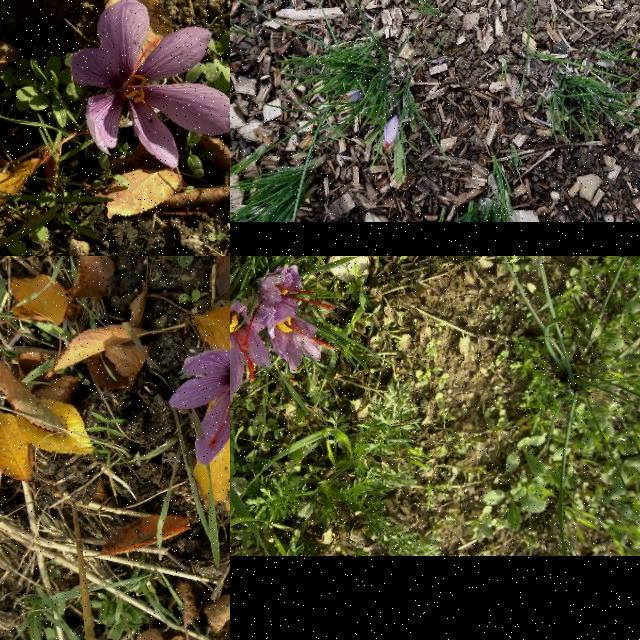flower: (68, 0, 230, 169), (169, 347, 230, 467), (384, 115, 400, 151)
overlap: (230, 265, 339, 402)
